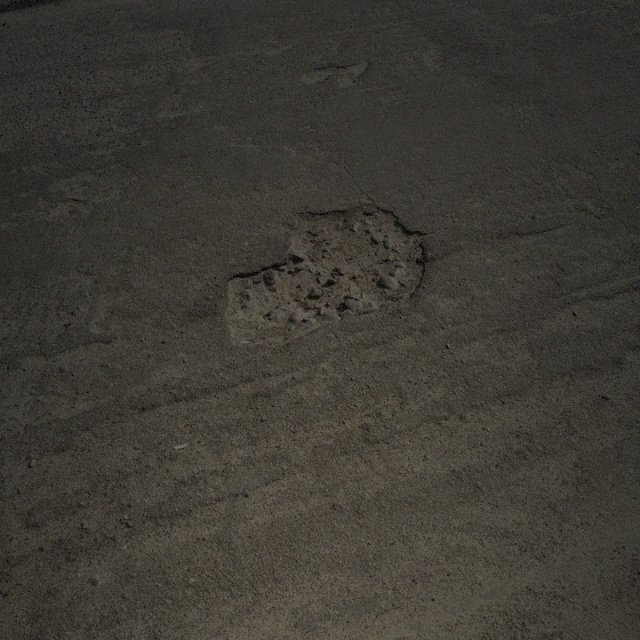pothole: (217, 194, 428, 346), (298, 59, 374, 85)
